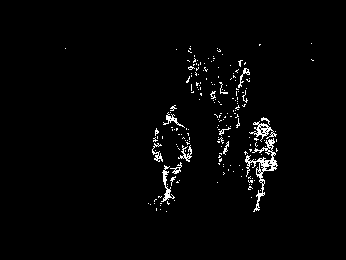person: (152, 103, 194, 207), (246, 116, 281, 213), (229, 58, 252, 112)
